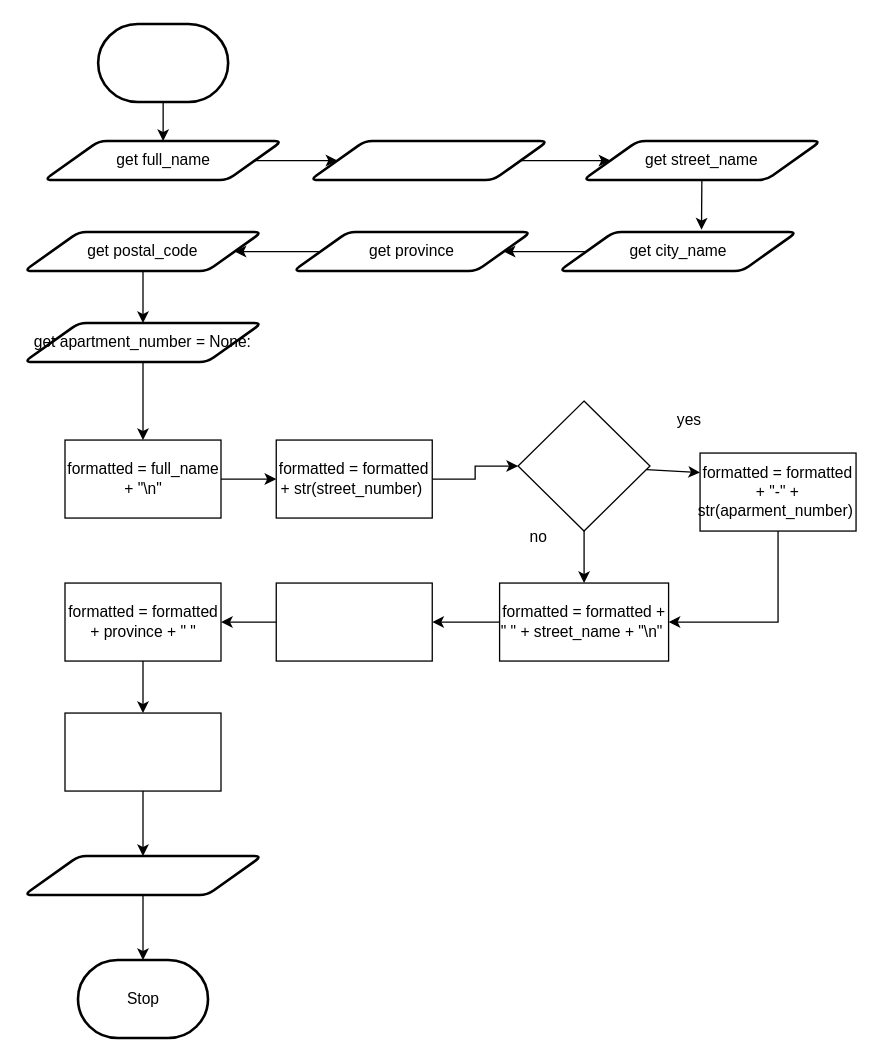
This 880x1061 diagram has some shape labels left out. Each missing label, with the box of its shape:
formatted = formatted + city + " ": (275, 582, 432, 661)
formatted = formatted + postal_code: (64, 712, 221, 791)
get street_number: (308, 139, 549, 181)
if apartment_number != None:: (517, 400, 650, 531)
return formatted address: (22, 854, 263, 896)
Start: (96, 22, 229, 103)
